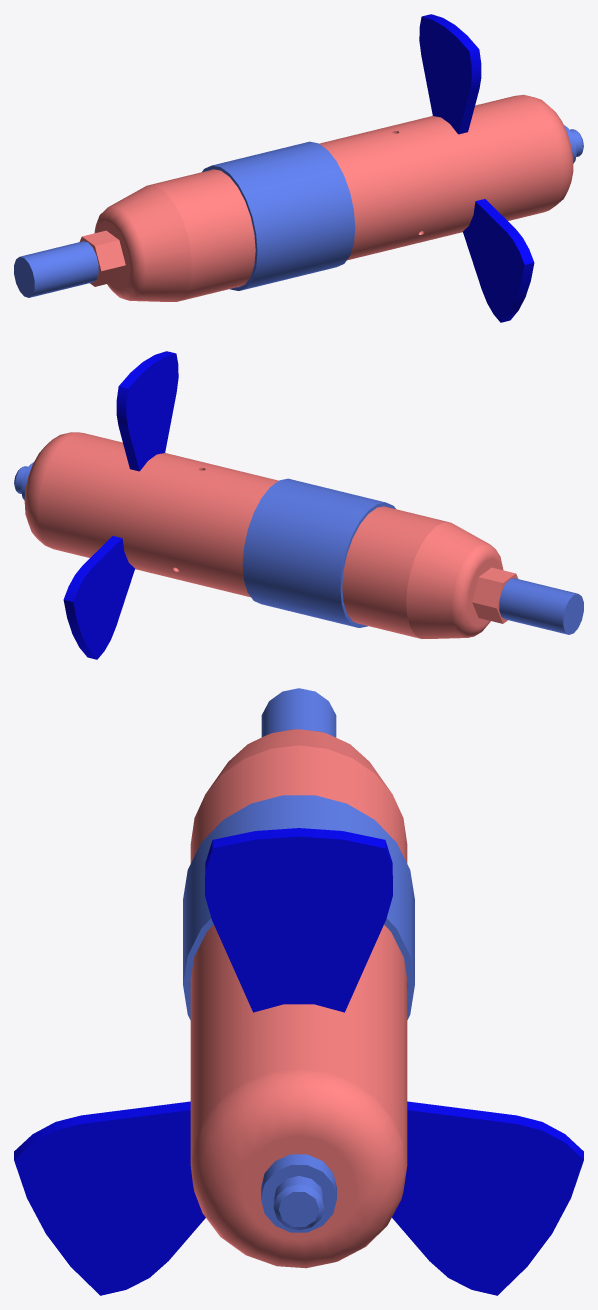
File: prop.dae
3 views of the same model, one above another, from view 1: azimuth 30°, elevation 25°; view 2: azimuth 150°, elevation 25°; view 3: azimuth 270°, elevation 25° (orthographic). The views are drawn at different scales.
Parts seen in each view (by area): view 1: Body.5, PartBody; view 2: Body.5, PartBody; view 3: Body.5, PartBody.
Part boxes in pixels (bbox=[...]): Body.5: bbox=[79, 14, 573, 322]; PartBody: bbox=[14, 125, 583, 297]; Body.5: bbox=[24, 351, 518, 659]; PartBody: bbox=[14, 462, 583, 634]; Body.5: bbox=[14, 729, 583, 1295]; PartBody: bbox=[183, 688, 414, 1232].
Bounding box in the file's own units: 0.1359 × 0.0673 × 0.0598.
